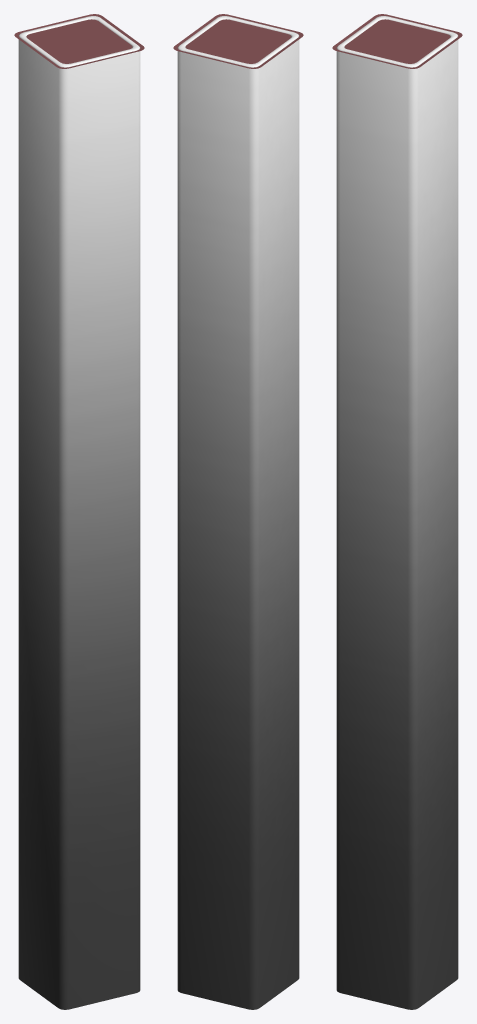
Rendered from Block_3D_1.fbx.
3 views of the same model, side by side, from view 1: azimuth 30°, elevation 25°; view 2: azimuth 150°, elevation 25°; view 3: azimuth 330°, elevation 25° (orthographic).
Parts seen in each view (by area): view 1: Block_3D_1, solid, outline; view 2: Block_3D_1, solid, outline; view 3: Block_3D_1, solid, outline.
Boxes of the visible parts, box(x1,y1,x2,y2) form: Block_3D_1: box(18, 16, 140, 1009); solid: box(26, 19, 132, 63); outline: box(14, 14, 144, 68); Block_3D_1: box(177, 16, 299, 1009); solid: box(185, 19, 291, 63); outline: box(173, 14, 303, 68); Block_3D_1: box(336, 16, 458, 1009); solid: box(344, 19, 450, 63); outline: box(332, 14, 462, 68).
Bounding box in the file's own units: 291 × 3022 × 291.
